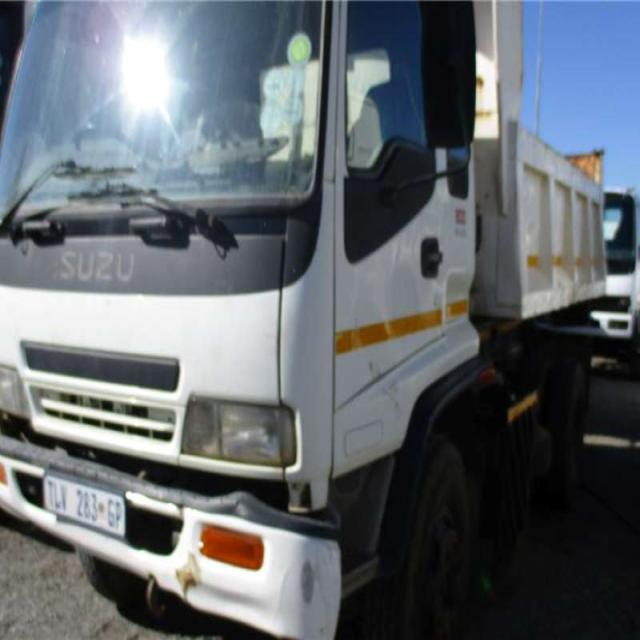Heavy Duty Truck: (2, 1, 606, 640)
